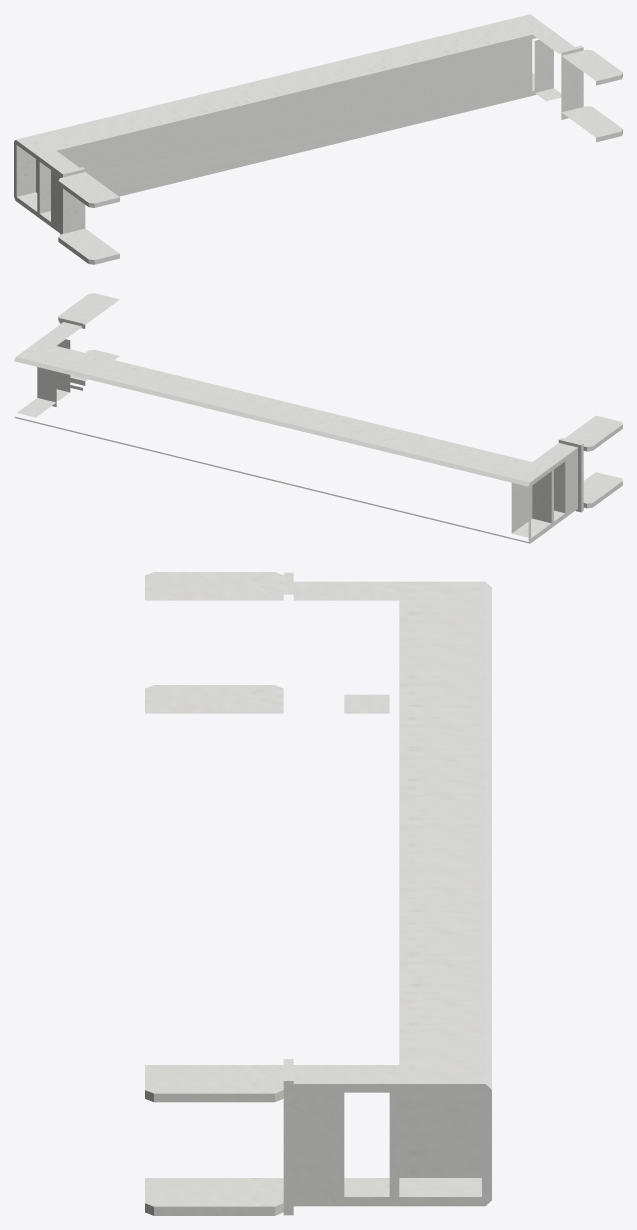
Rendered from azdz030-geode.glb.
3 renders of one model, top to bottom at view 1: azimuth 30°, elevation 25°; view 2: azimuth 150°, elevation 25°; view 3: azimuth 270°, elevation 25°, orthographic. The views are drawn at different scales.
Parts seen in each view (by area): view 1: Node; view 2: Node; view 3: Node.
Part boxes in pixels (<box>): Node: <box>14,14,622,264</box>; Node: <box>14,293,622,543</box>; Node: <box>145,572,491,1215</box>.
Bounding box in the file's own units: 3.81 × 0.4576 × 1.07.
Materials: 1 (1 with a texture image).
